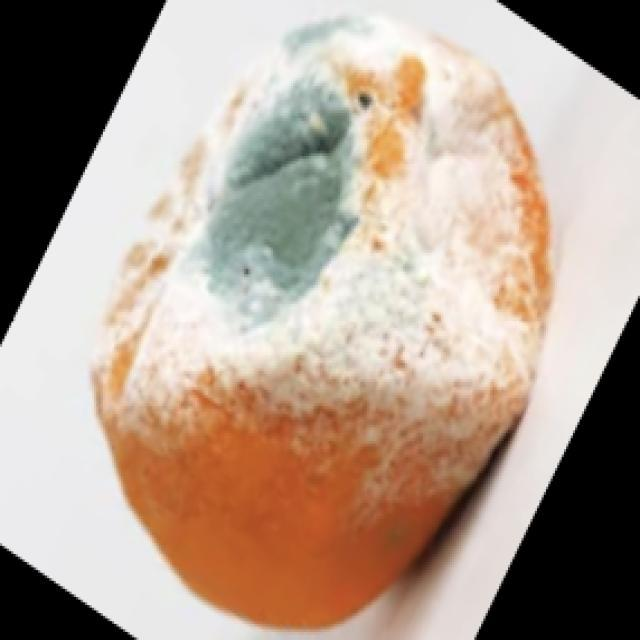sangat-busuk: (93, 20, 551, 627), (284, 279, 292, 289)
